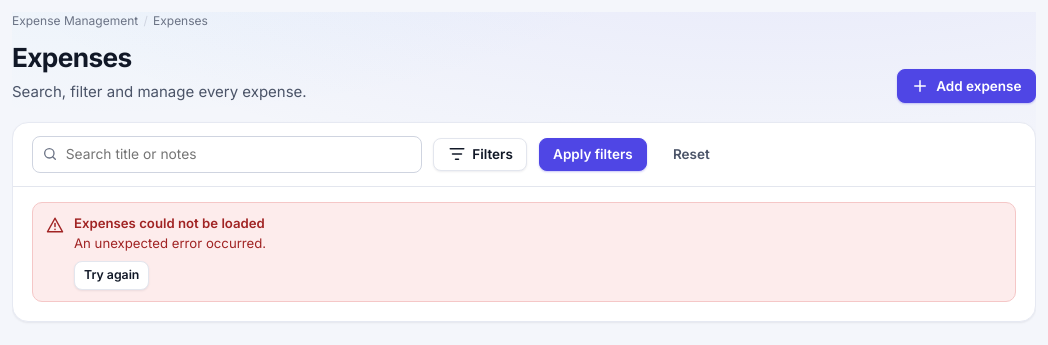
ExpensesPage › API failure → error state with a working retry
Expected: the message shows "An unexpected error occurred.", [74,235,266,251]
Step 1. Click the button "Try again" → [112, 276], box [74,261,149,290]
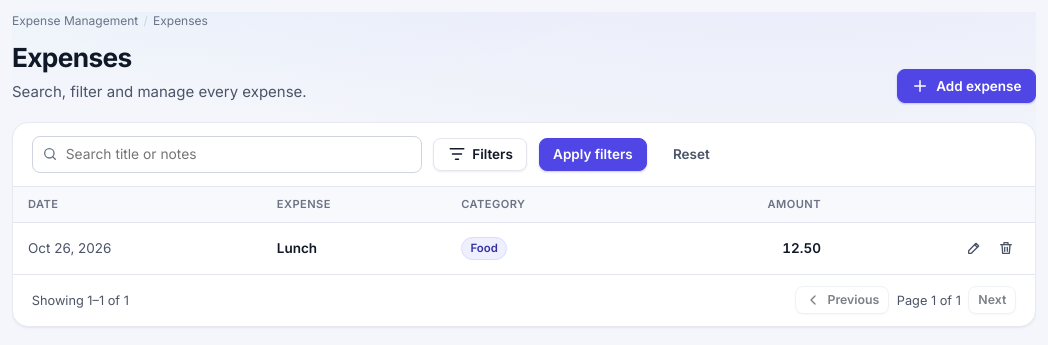
Expected: the cell "Lunch" is shown, [262,223,446,274]
